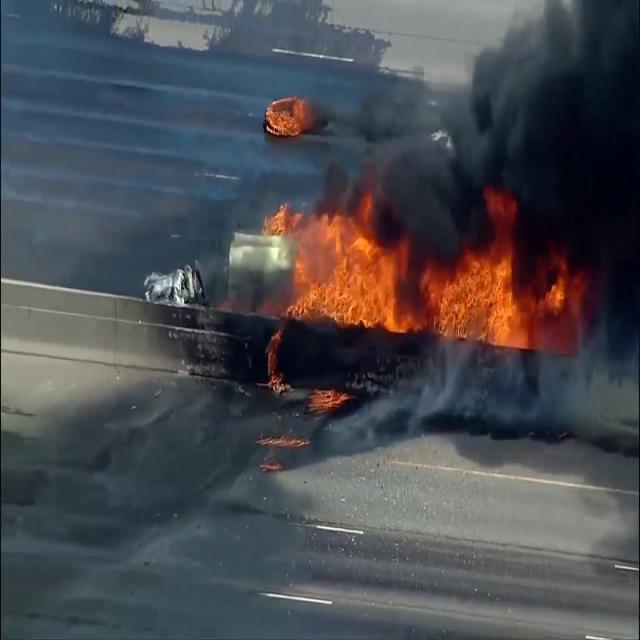Fire: (269, 201, 546, 345)
Smoke: (326, 0, 640, 258)
